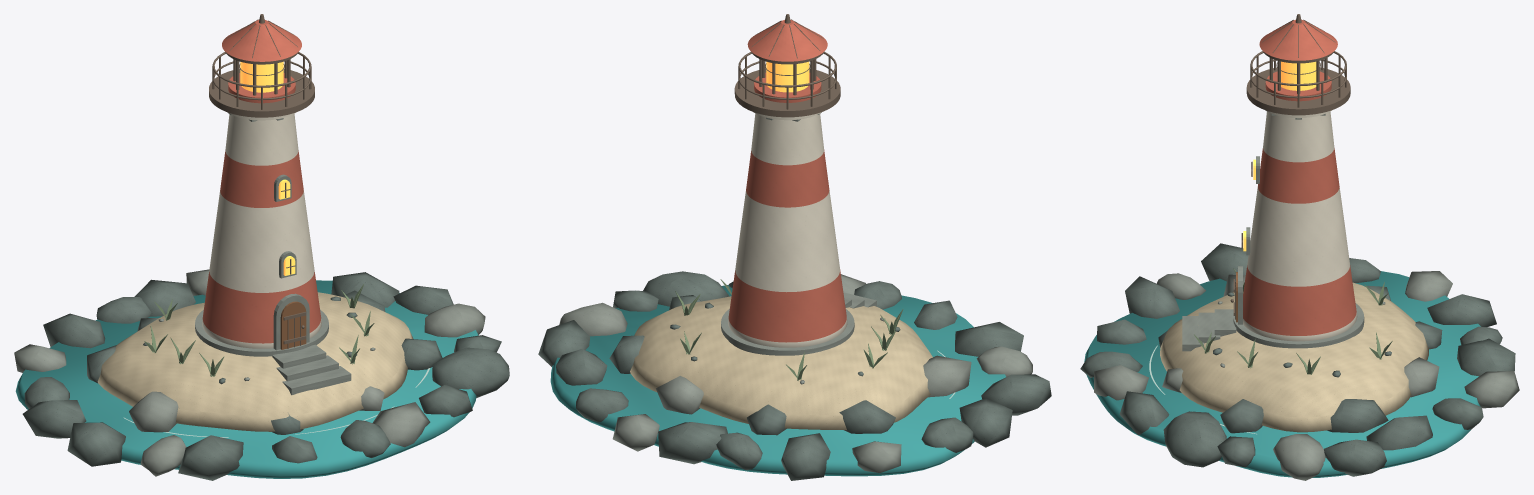
File: lighthouse-island-v6-lod.fbx
The picture shows the model from 3 angles, left to right: view 1: azimuth 30°, elevation 25°; view 2: azimuth 150°, elevation 25°; view 3: azimuth 270°, elevation 25°; orthographic projection. The views are drawn at different scales.
Parts seen in each view (by area): view 1: Lighthouse | collectible LOD; view 2: Lighthouse | collectible LOD; view 3: Lighthouse | collectible LOD.
Part boxes in pixels (x1,y1,x2,y2): Lighthouse | collectible LOD: (14,14,509,480); Lighthouse | collectible LOD: (538,14,1051,480); Lighthouse | collectible LOD: (1080,14,1519,480).
Bounding box in the file's own units: 189 × 151 × 162.
Materials: 11 (5 with a texture image).
